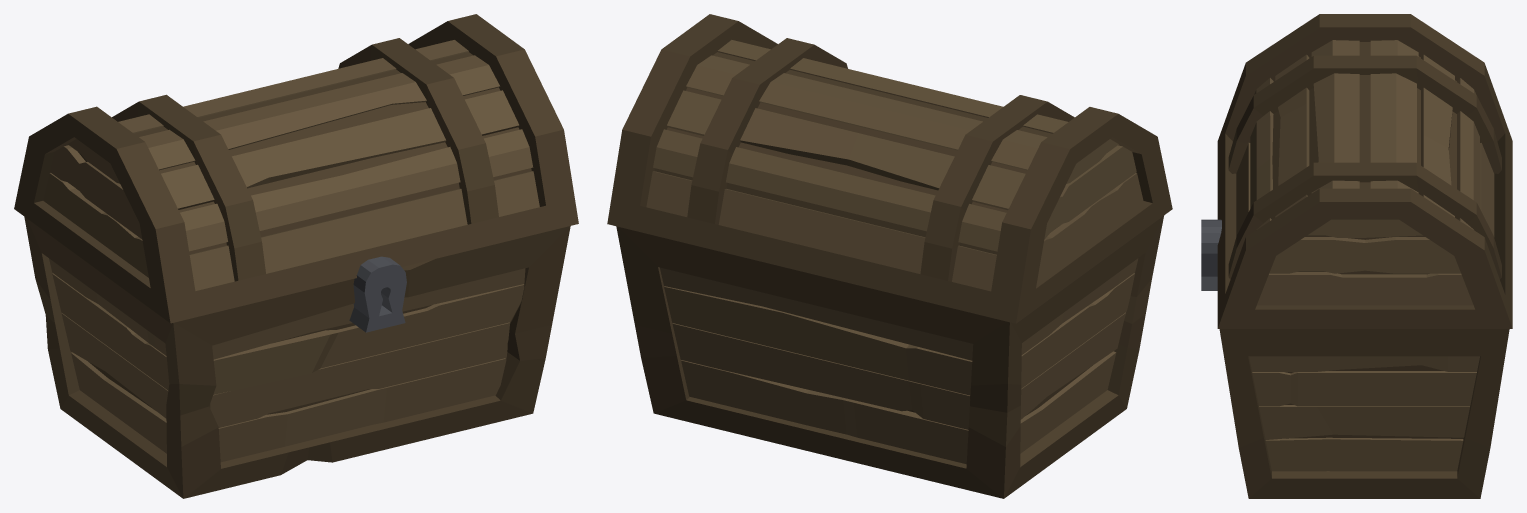
File: Chest.glb
3 renders of one model, left to right at view 1: azimuth 30°, elevation 25°; view 2: azimuth 150°, elevation 25°; view 3: azimuth 270°, elevation 25°, orthographic. The views are drawn at different scales.
Parts seen in each view (by area): view 1: Chest_Top_Cylinder.034, Chest_Base_Cube.009; view 2: Chest_Top_Cylinder.034, Chest_Base_Cube.009; view 3: Chest_Top_Cylinder.034, Chest_Base_Cube.009.
Part boxes in pixels (<box>): Chest_Top_Cylinder.034: <box>14,14,578,323</box>; Chest_Base_Cube.009: <box>24,217,570,498</box>; Chest_Top_Cylinder.034: <box>607,14,1172,323</box>; Chest_Base_Cube.009: <box>616,216,1163,498</box>; Chest_Top_Cylinder.034: <box>1217,14,1512,328</box>; Chest_Base_Cube.009: <box>1201,219,1509,498</box>.
Bounding box in the file's own units: 1.18 × 0.9094 × 0.8264.
